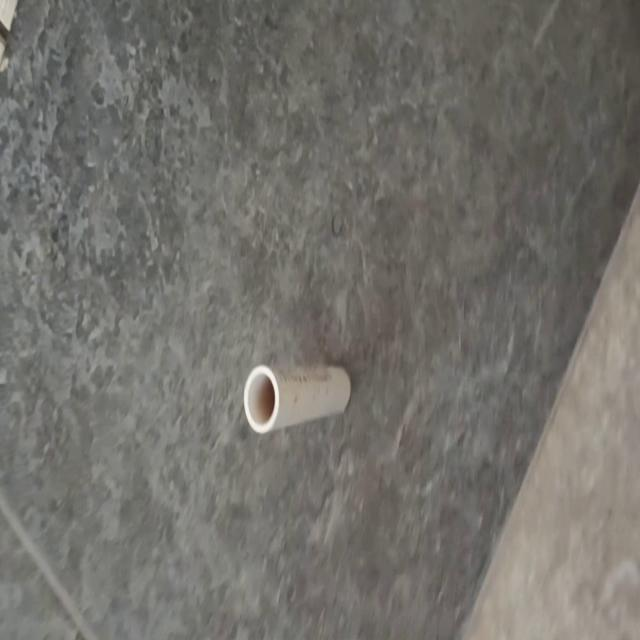Cube: (242, 361, 352, 435)
